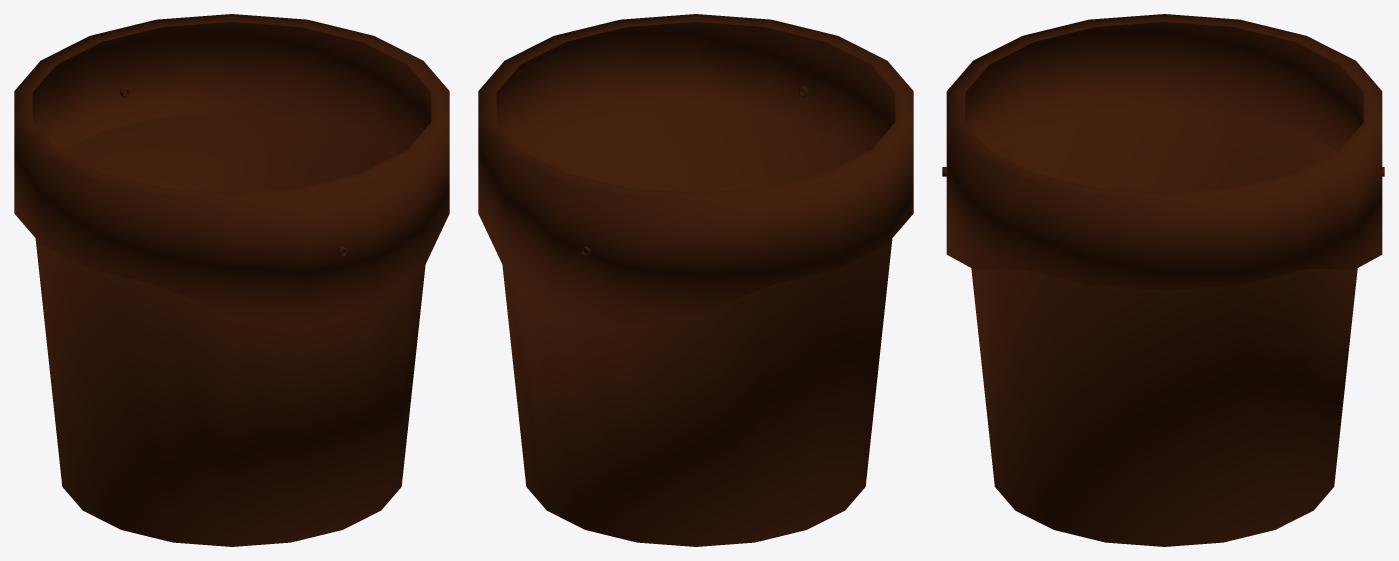
Rendered from bucket fbx.FBX.
3 views of the same model, side by side, from view 1: azimuth 30°, elevation 25°; view 2: azimuth 150°, elevation 25°; view 3: azimuth 270°, elevation 25° (orthographic).
Visible parts, largest first — view 1: Cylinder001; view 2: Cylinder001; view 3: Cylinder001.
Boxes of the visible parts, x1,y1,x2,y2 form: Cylinder001: (14,14,449,546); Cylinder001: (478,14,913,546); Cylinder001: (942,14,1384,546).
Size of the model in its own units: 32.78 by 30 by 32.81.
